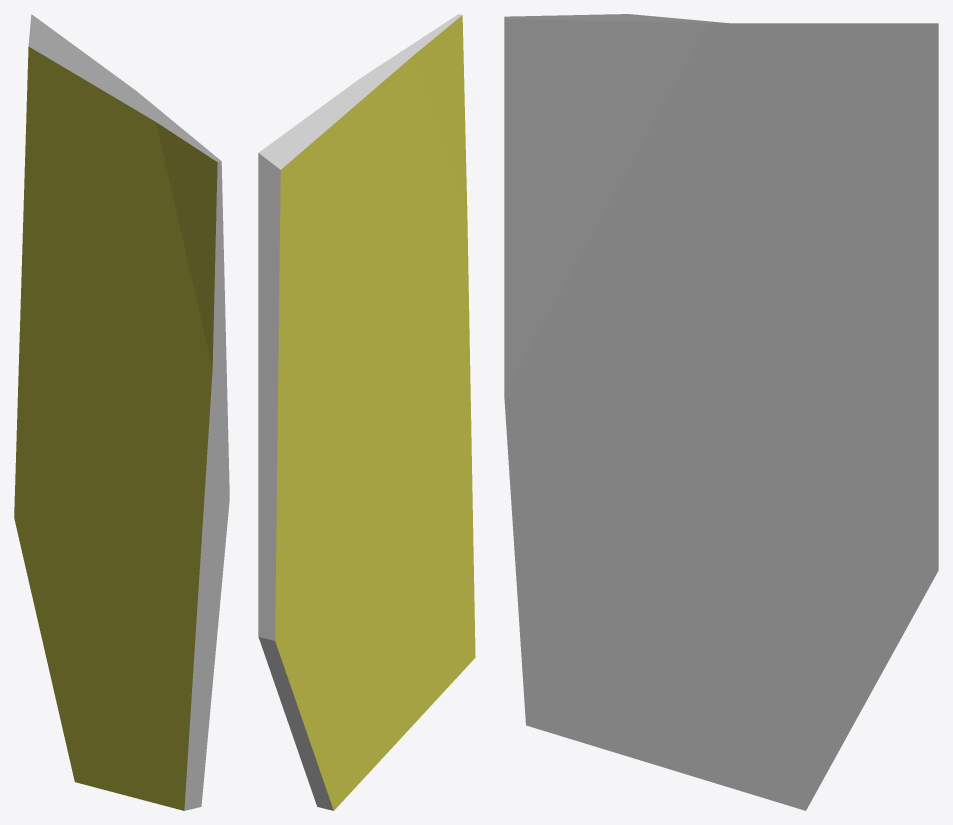
3 renders of one model, left to right at view 1: azimuth 30°, elevation 25°; view 2: azimuth 150°, elevation 25°; view 3: azimuth 270°, elevation 25°, orthographic. The views are drawn at different scales.
Parts seen in each view (by area): view 1: Cube.001; view 2: Cube.001; view 3: Cube.001.
Part boxes in pixels (x1,y1,x2,y2): Cube.001: (14,14,229,810); Cube.001: (258,14,475,810); Cube.001: (504,14,938,810).
Bounding box in the file's own units: 0.0413 × 0.8 × 0.4.
